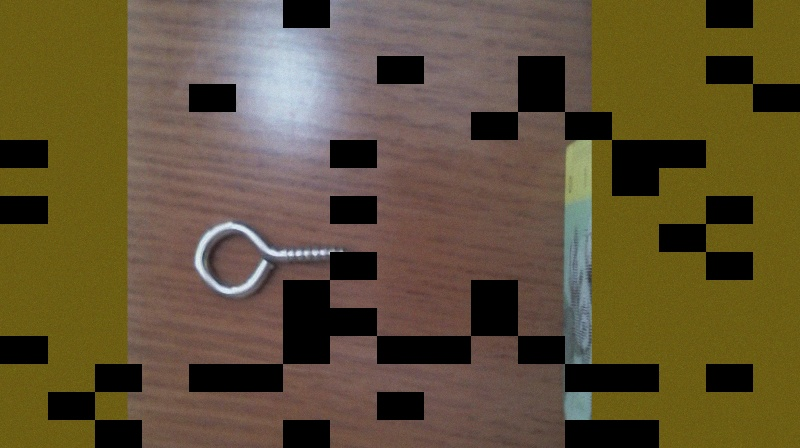O001: (187, 212, 355, 305)
